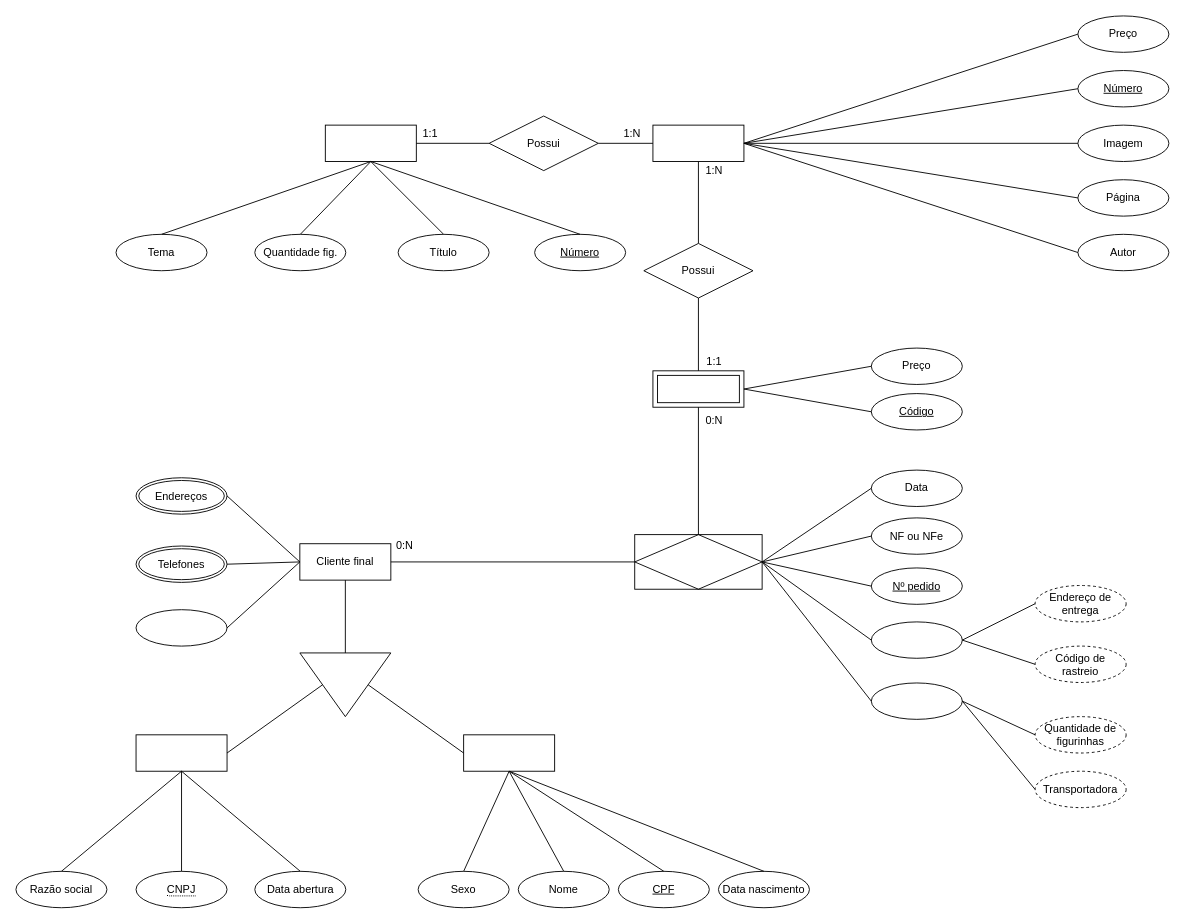
Image size: 1185x924. Some labels were removed from this diagram. Each missing label, with the box of its shape:
Compra: (634, 534, 762, 589)
Dados do pedido: (870, 682, 962, 719)
Figurinhas: (652, 124, 744, 162)
Figurinhas Tabela preços: (652, 370, 744, 407)
Nº cadastro: (135, 609, 227, 646)
Pedido do correio: (870, 621, 962, 658)
Pessoa fisica: (463, 734, 555, 771)
Pessoa jurídica: (135, 734, 227, 771)
Álbum: (324, 124, 416, 162)
